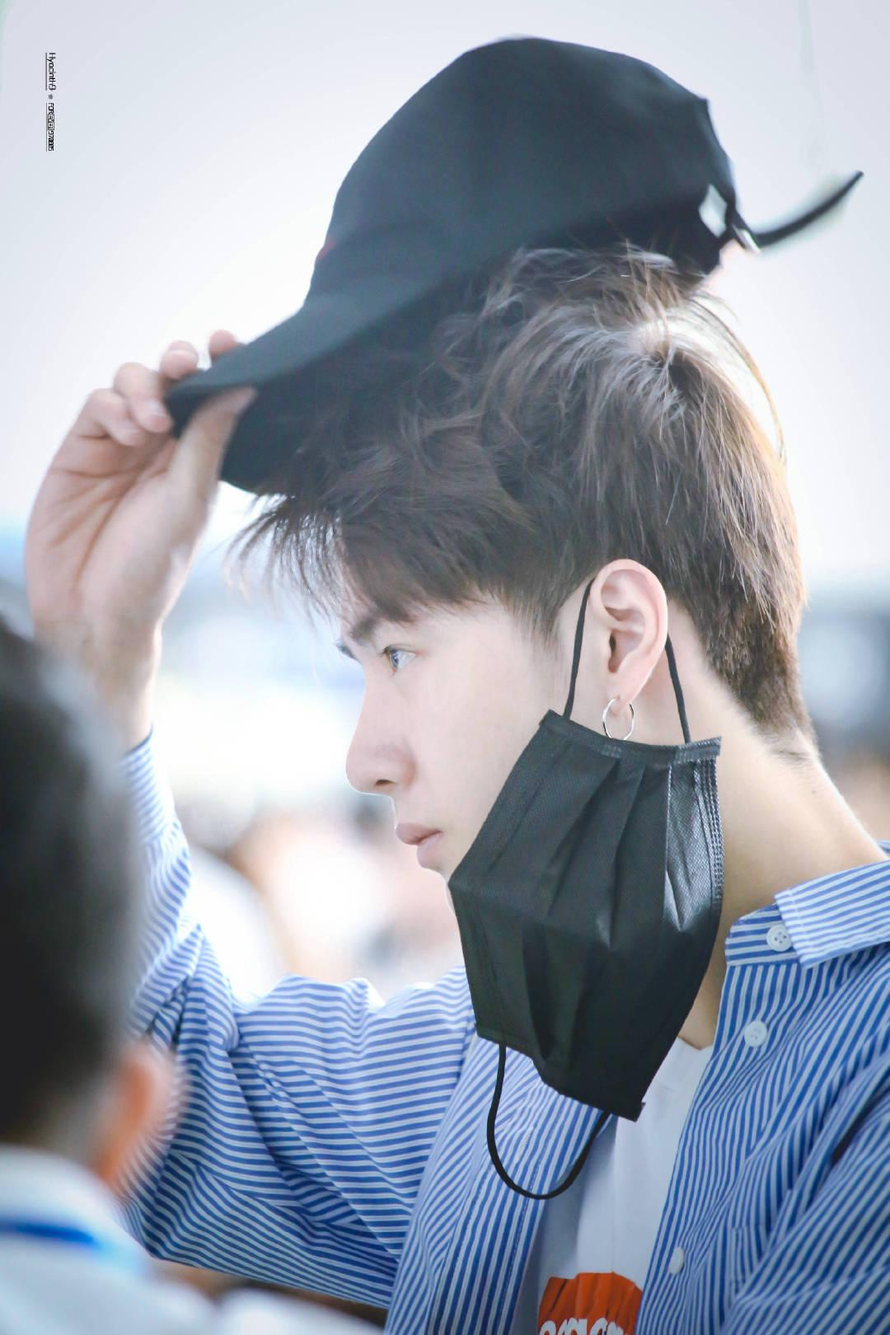WRONG: (336, 581, 578, 919)
